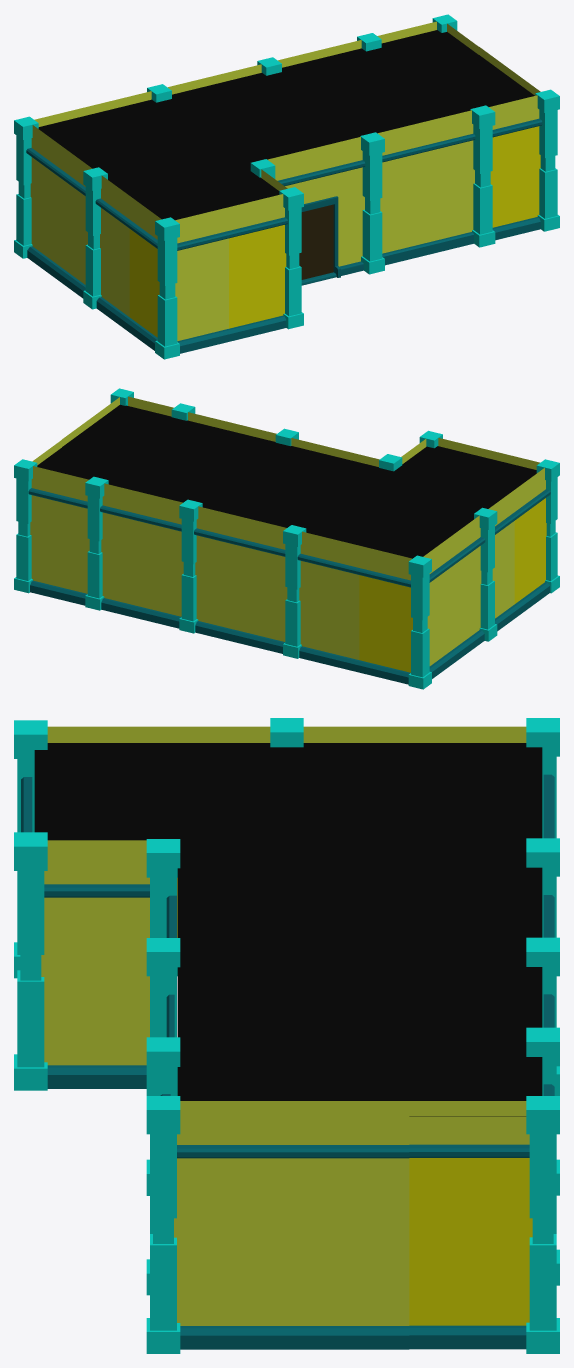
The model's file is Building_2_Marsh_Jeremy.fbx.
3 views of the same model, one above another, from view 1: azimuth 30°, elevation 25°; view 2: azimuth 150°, elevation 25°; view 3: azimuth 270°, elevation 25° (orthographic). The views are drawn at different scales.
Parts seen in each view (by area): view 1: Wall_corner_4; view 2: Wall_corner_4; view 3: Wall_corner_4.
Part boxes in pixels (bbox=[...]): Wall_corner_4: bbox=[14, 14, 559, 359]; Wall_corner_4: bbox=[14, 388, 559, 689]; Wall_corner_4: bbox=[14, 718, 559, 1353].
Bounding box in the file's own units: 34.47 × 10 × 20.29.
